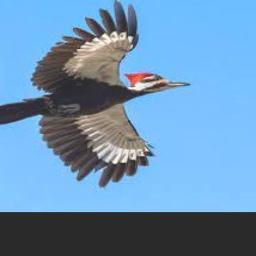Woodpecker: (0, 0, 191, 188)
